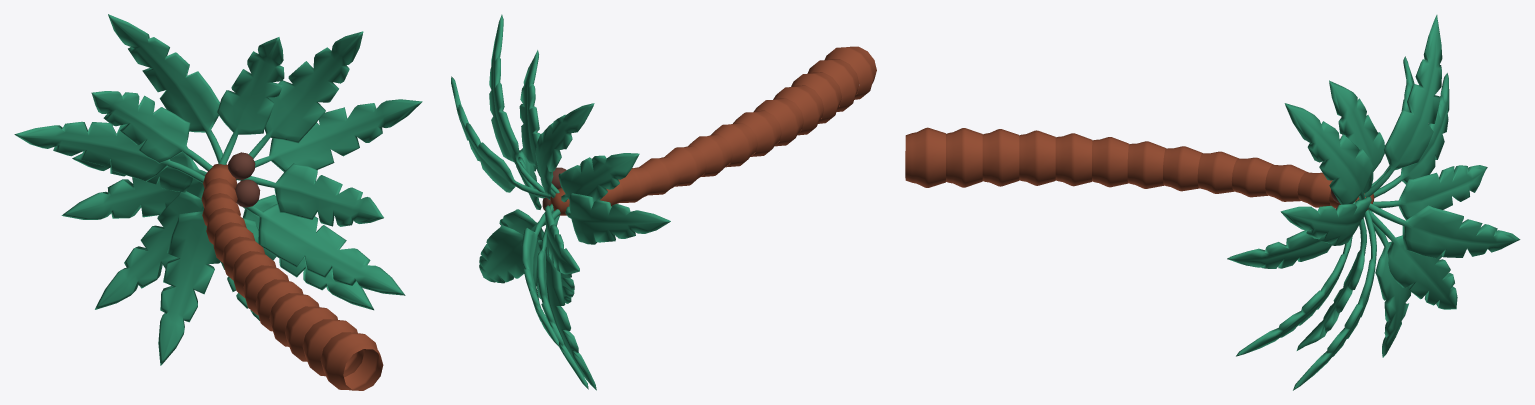
Rendered from palmTreeWindswept.fbx.
3 views of the same model, side by side, from view 1: azimuth 30°, elevation 25°; view 2: azimuth 150°, elevation 25°; view 3: azimuth 270°, elevation 25° (orthographic). The views are drawn at different scales.
Parts seen in each view (by area): view 1: palmTreeWindswept; view 2: palmTreeWindswept; view 3: palmTreeWindswept.
Boxes of the visible parts, x1,y1,x2,y2 form: palmTreeWindswept: (14, 14, 422, 390); palmTreeWindswept: (451, 14, 876, 390); palmTreeWindswept: (905, 15, 1520, 390).
Size of the model in its own units: 791 by 790 by 1326.
Materials: 1 (1 with a texture image).
